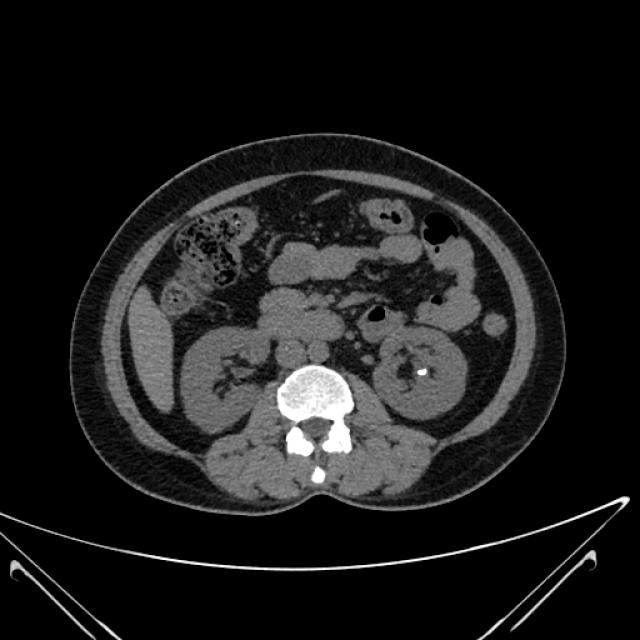kidney: (177, 324, 274, 438), (372, 326, 469, 419)
stone: (415, 367, 429, 378)
